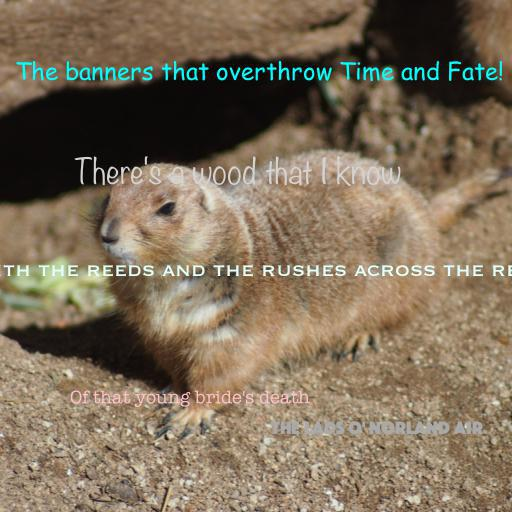American Typewriter: (70, 390, 310, 408)
Comic Sans MS: (14, 60, 504, 82)
Copperplate: (0, 263, 512, 277)
Noteworthy: (73, 156, 401, 187)
Phosphate: (271, 421, 483, 435)
